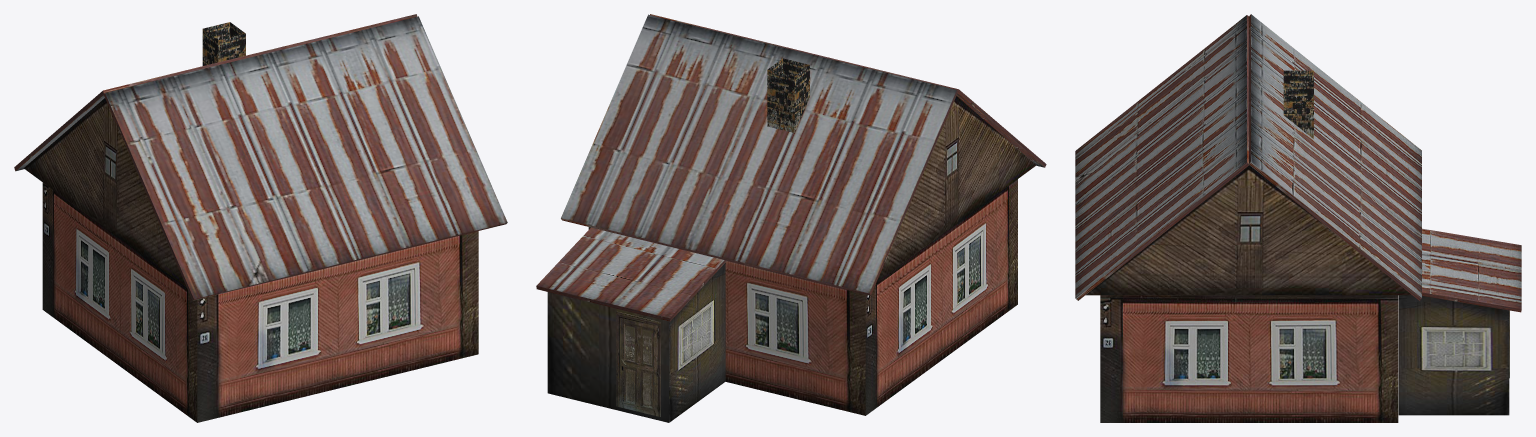
File: d_dom_1et_45.FBX
3 views of the same model, side by side, from view 1: azimuth 30°, elevation 25°; view 2: azimuth 150°, elevation 25°; view 3: azimuth 270°, elevation 25° (orthographic). The views are drawn at different scales.
Visible parts, largest first — view 1: d_dom_1et_45; view 2: d_dom_1et_45; view 3: d_dom_1et_45.
Boxes of the visible parts, x1,y1,x2,y2 form: d_dom_1et_45: (14,14,507,422); d_dom_1et_45: (536,14,1046,422); d_dom_1et_45: (1075,14,1521,422).
Bounding box in the file's own units: 8.66 × 11.07 × 7.51.
